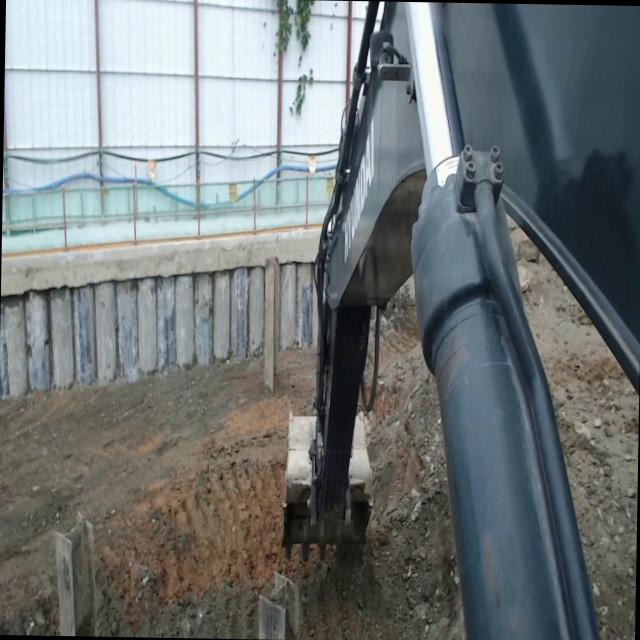cement: (0, 228, 315, 294)
red-sand: (0, 281, 464, 640), (511, 227, 639, 640)
